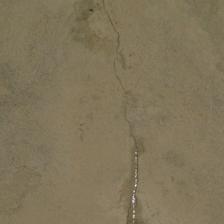Crack: (100, 2, 136, 91), (122, 103, 141, 221)
